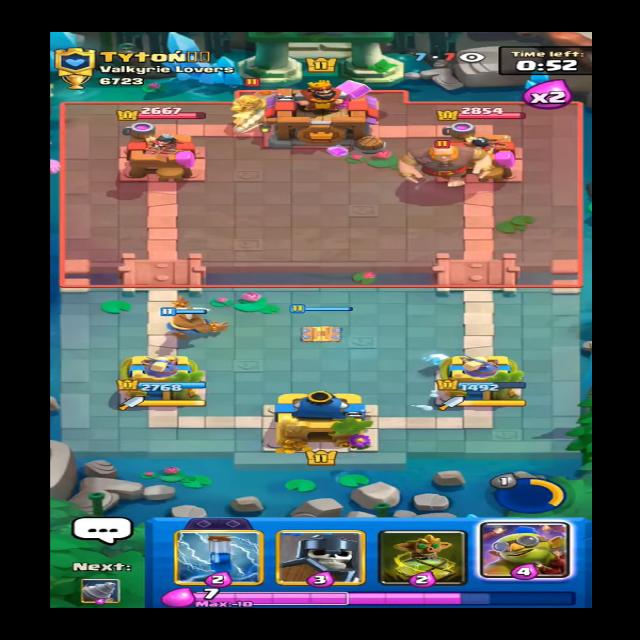giant: (396, 138, 499, 185)
prince: (220, 87, 280, 133)
